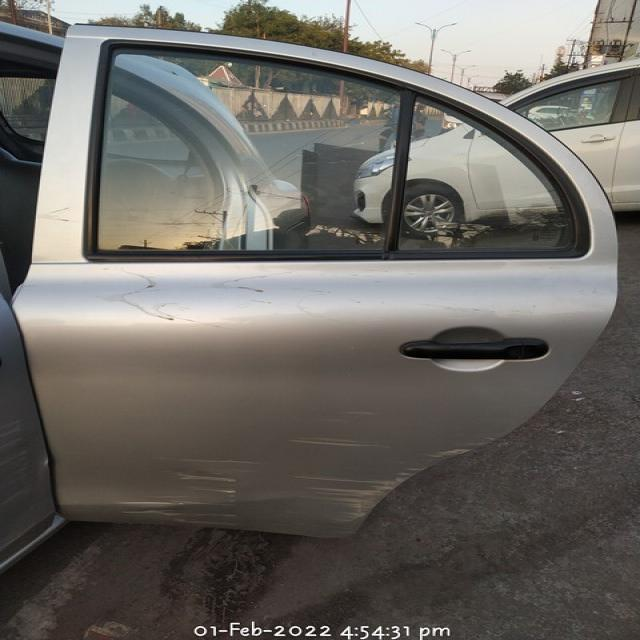damage: (285, 406, 469, 528), (124, 451, 248, 527)
